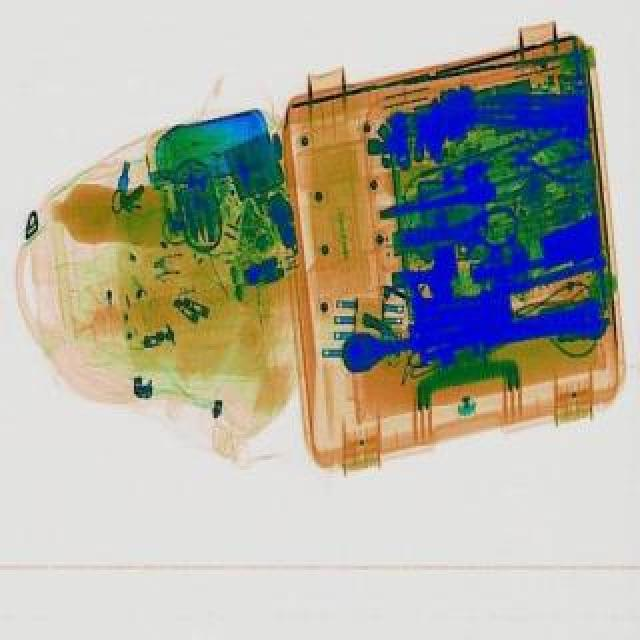wrench: (506, 130, 588, 190)
